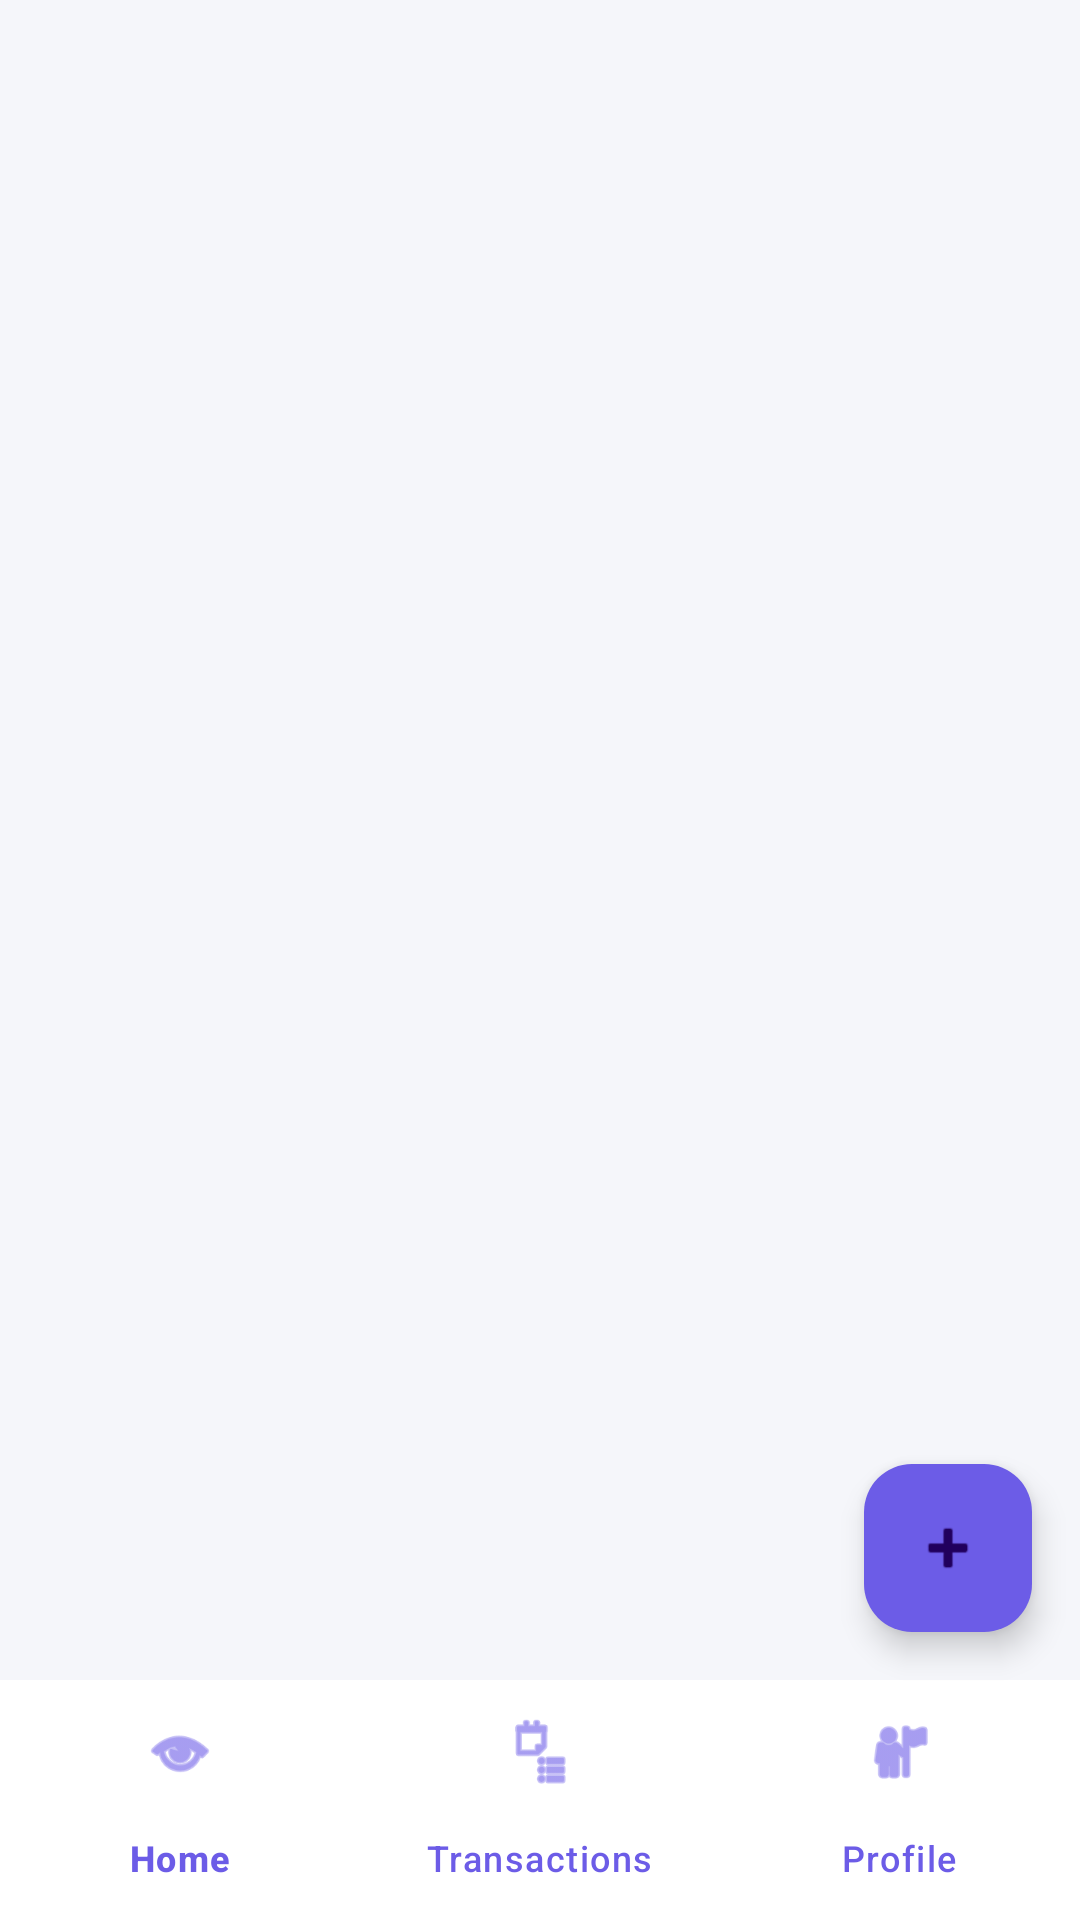

Screen size 1080w x 1920h. Icon name, then its center in pixels as point (x, y):
add: point (948, 1548)
